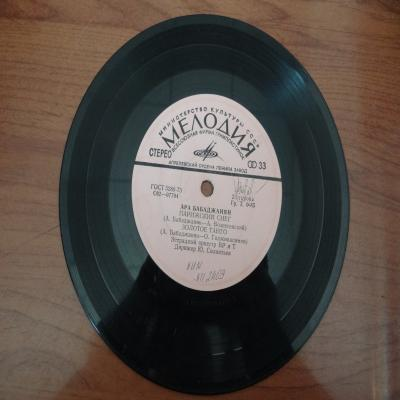other: (57, 14, 350, 397)
